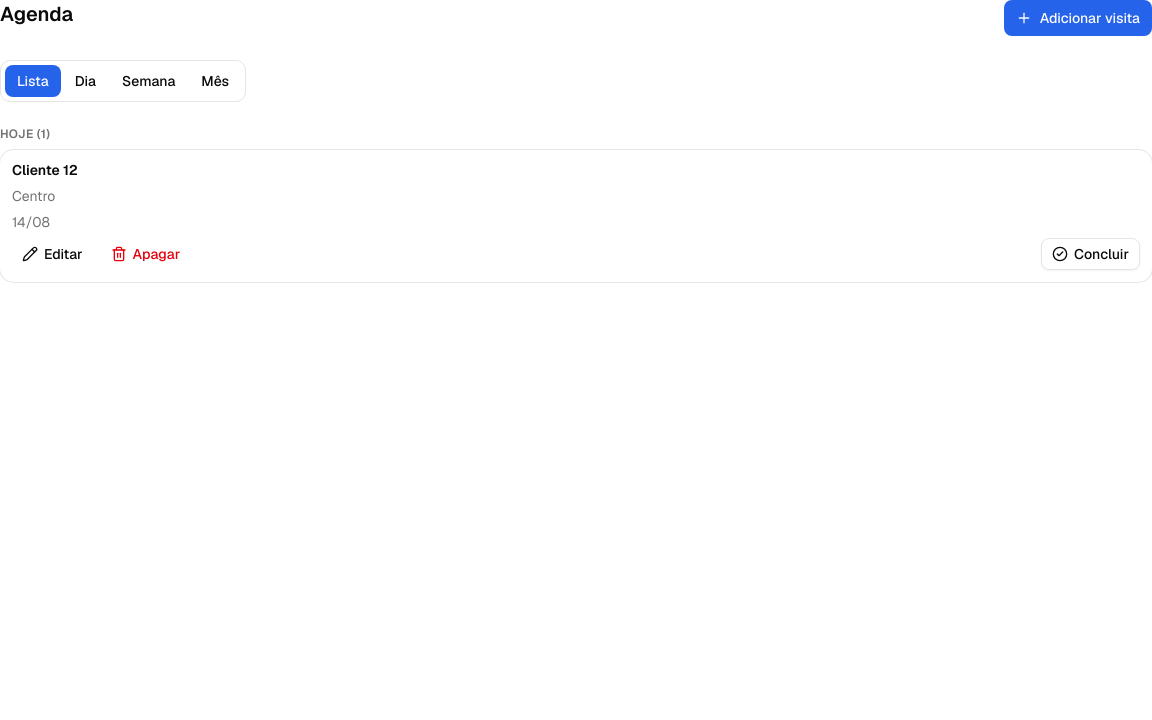
Test: Agenda2List + Agenda2Calendario (integração, plano 32-07) › adicionar-no-calendario: no Mês, Adicionar visita abre a janela com o campo Repetir
This screenshot has width=1152, height=720.
Expected: the heading "Hoje (1)" is shown, [0,126,50,142]
Click the button "Mês" at (215, 81), box [189,65,241,97]
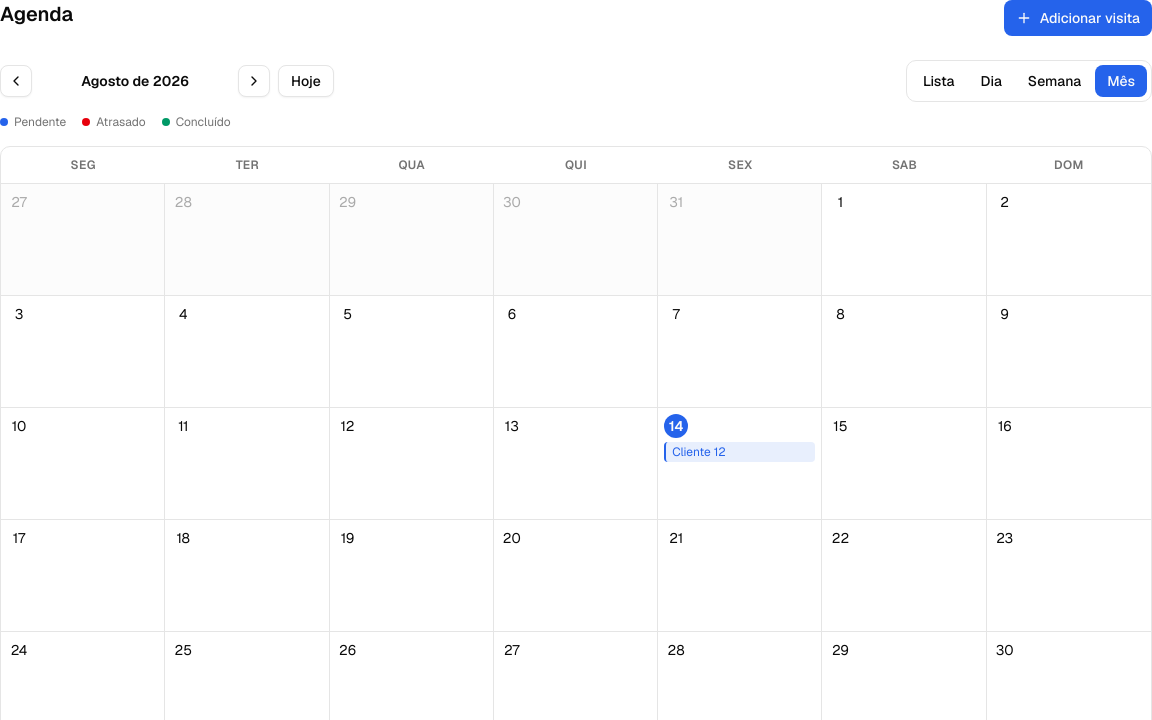
Expected: the text "Agosto de 2026" is shown, [81,72,189,90]
Click the button "Adicionar visita" at (1078, 18), box [1004,0,1151,36]
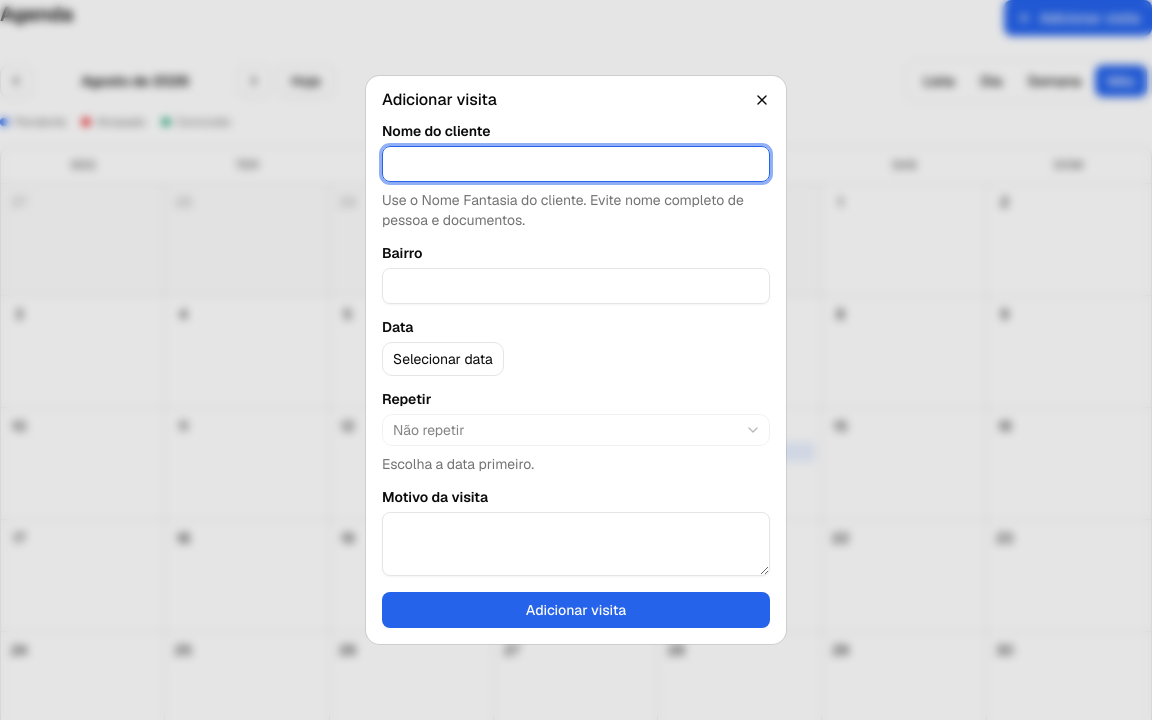
Expected: the field labelled "Nome do cliente" is shown, [382,146,770,182]
Expected: the dropdown labelled "repetir" is shown, [382,414,770,446]
